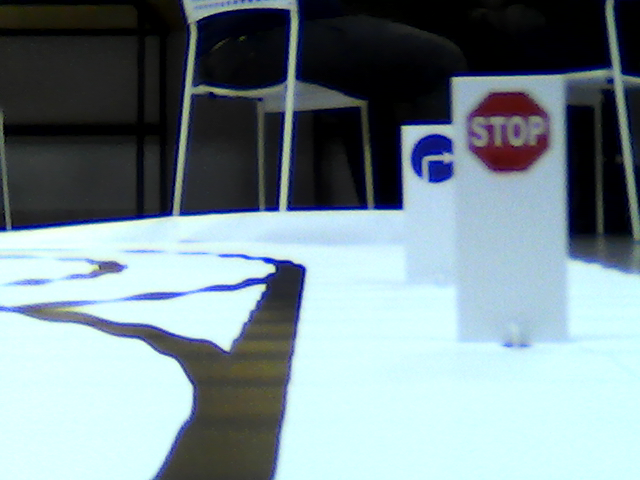Right: (412, 133, 454, 179)
Stop: (464, 89, 552, 175)
